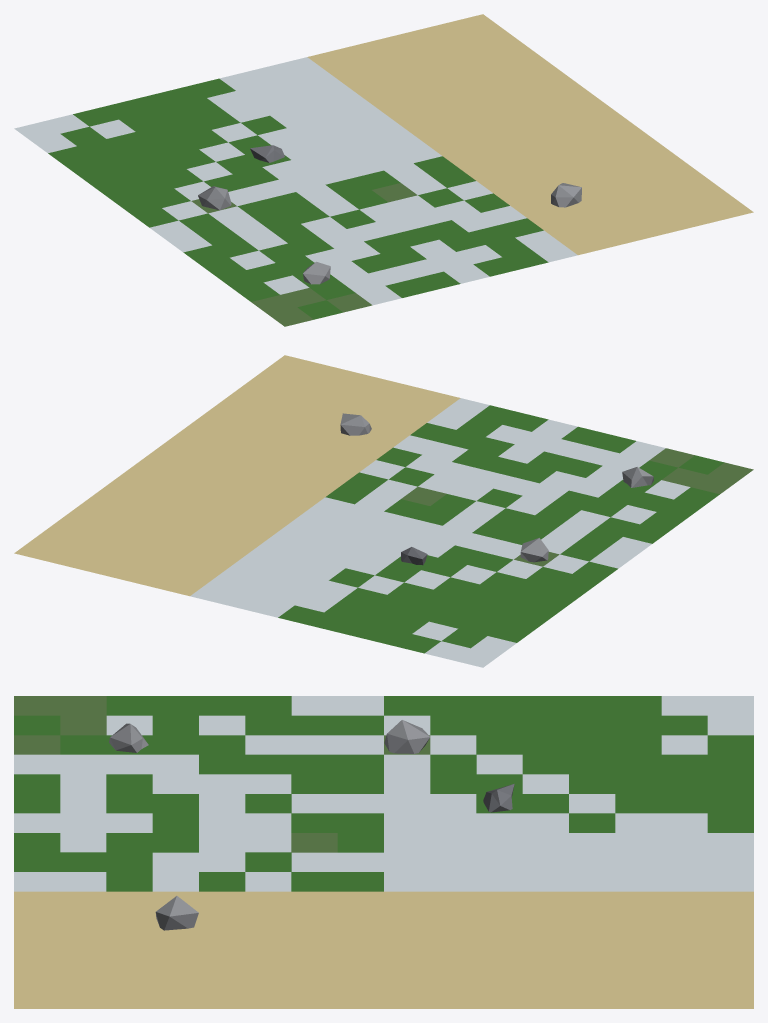
File: chunk_11_1.glb
The picture shows the model from 3 angles, top to bottom: view 1: azimuth 30°, elevation 25°; view 2: azimuth 150°, elevation 25°; view 3: azimuth 270°, elevation 25°; orthographic projection. The views are drawn at different scales.
Parts seen in each view (by area): view 1: chunk_11_1; view 2: chunk_11_1; view 3: chunk_11_1.
Boxes of the visible parts, box(x1,y1,x2,y2) form: chunk_11_1: box(14, 14, 753, 326); chunk_11_1: box(14, 355, 753, 667); chunk_11_1: box(14, 696, 753, 1008).
Size of the model in its own units: 16 by 0.9579 by 16.
